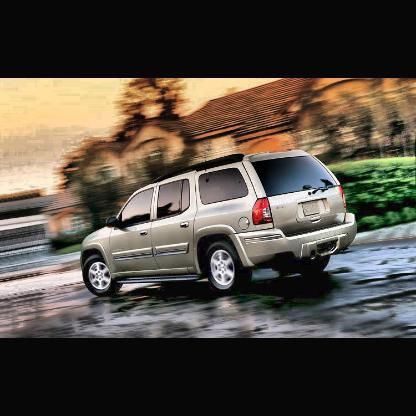Isuzu Ascender SUV 2008: (79, 148, 359, 299)
